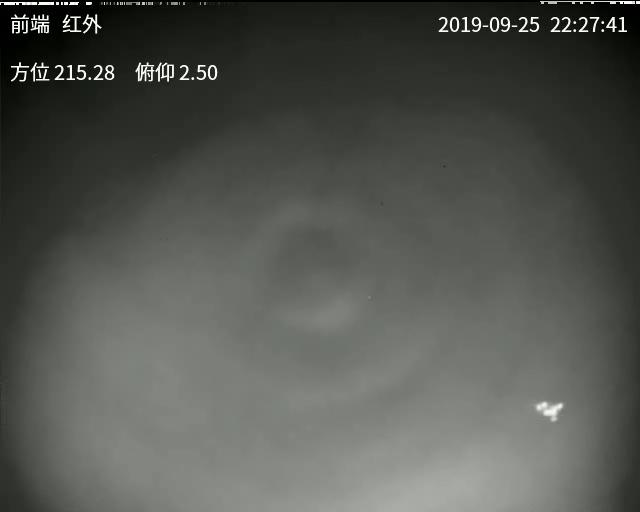uav: (532, 395, 565, 424)
